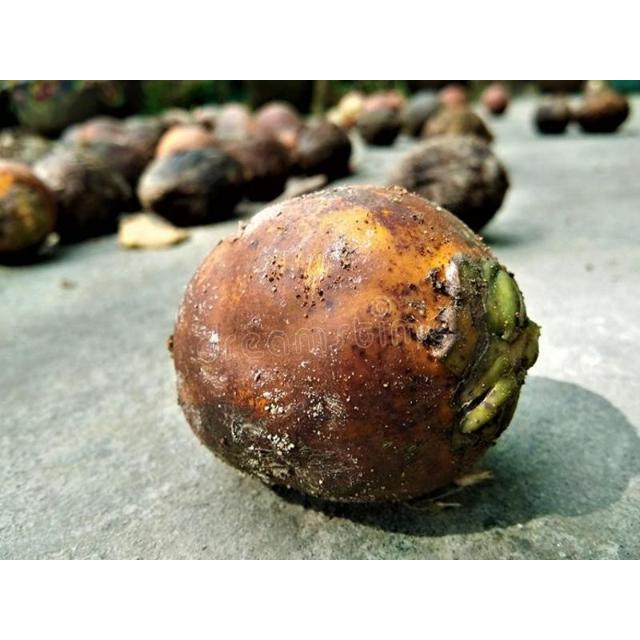damaged: (167, 186, 542, 512)
